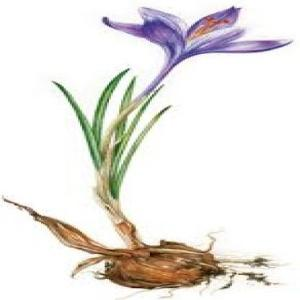Saffron: (101, 3, 297, 73)
